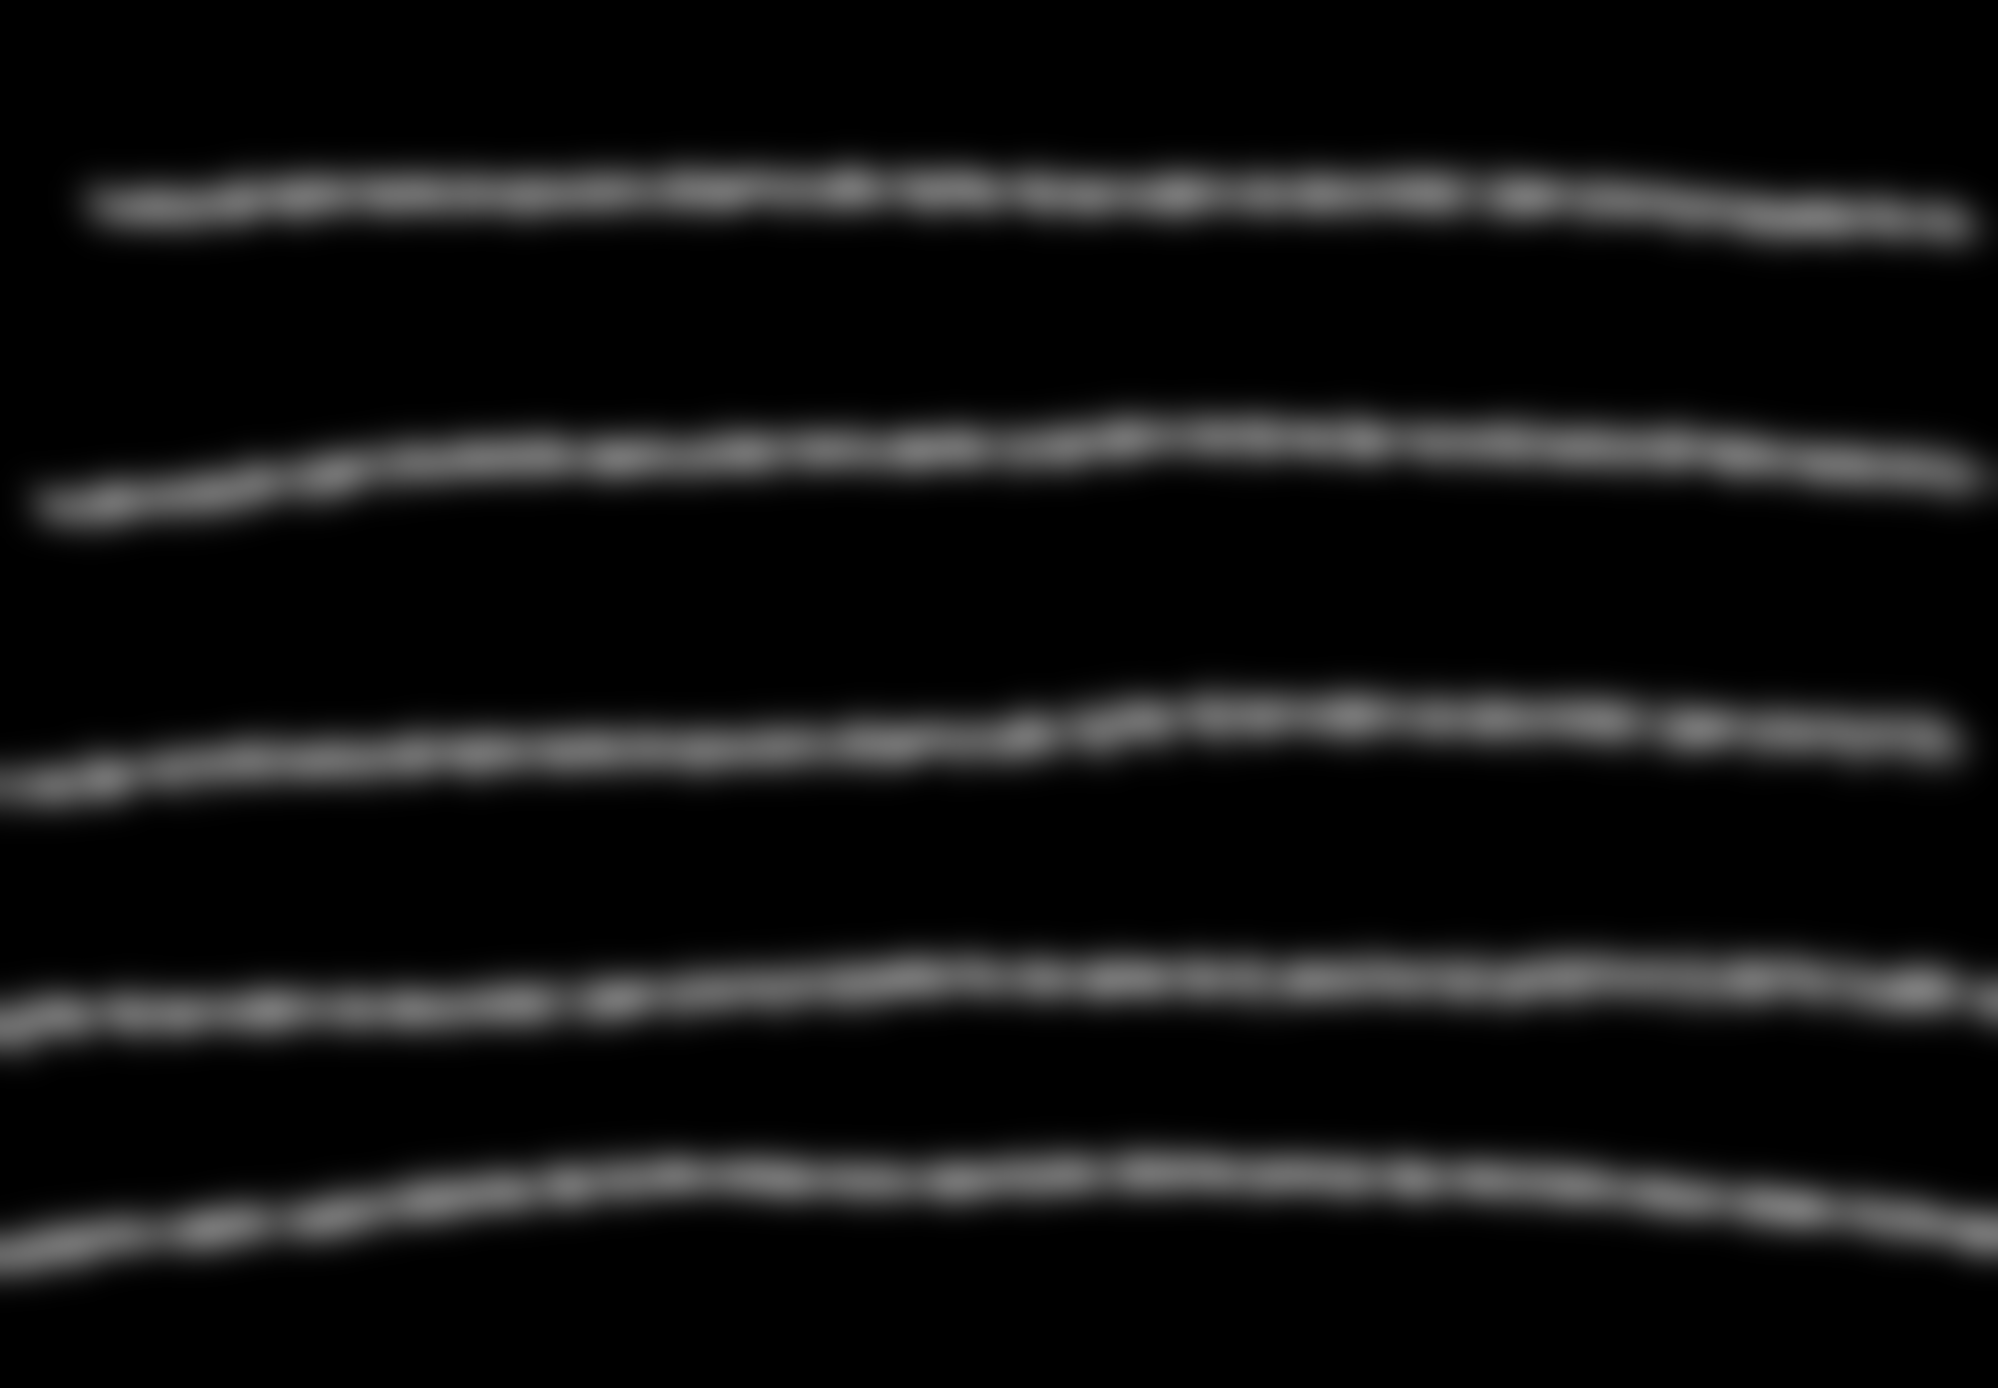Laminar flow: (21, 62, 1992, 1368)
